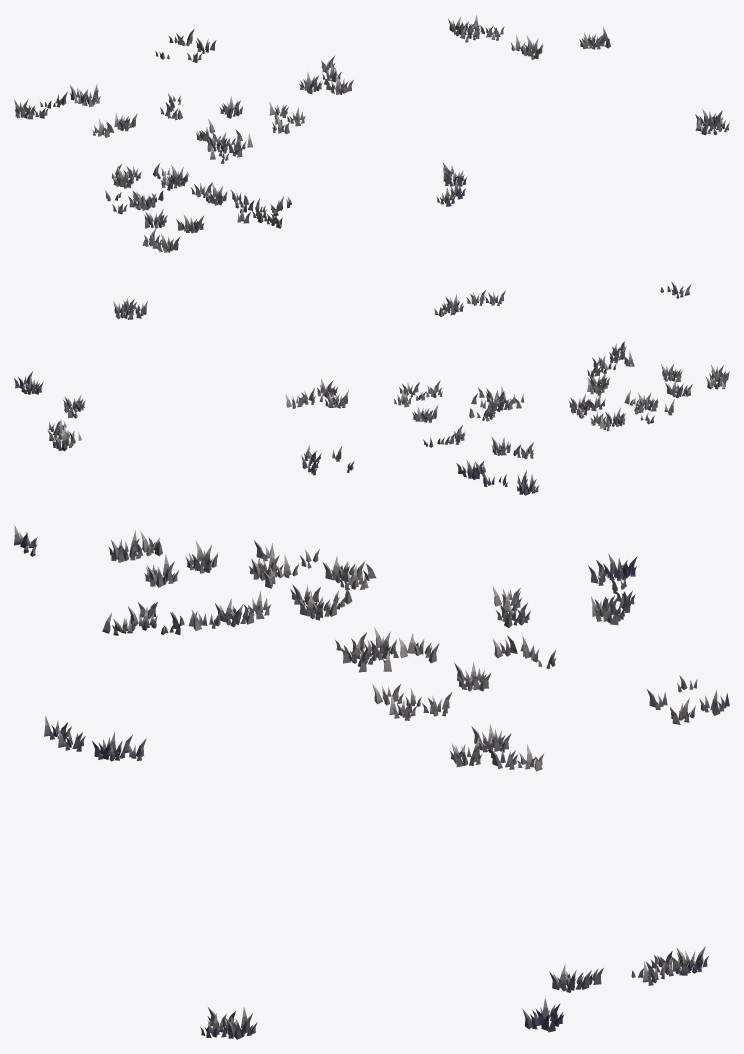
Rendered from Plant_01.FBX.
3 renders of one model, top to bottom at view 1: azimuth 30°, elevation 25°; view 2: azimuth 150°, elevation 25°; view 3: azimuth 270°, elevation 25°, orthographic. The views are drawn at different scales.
Parts seen in each view (by area): view 1: Plant_01; view 2: Plant_01; view 3: Plant_01.
Part boxes in pixels (x1,y1,x2,y2): Plant_01: [14, 15, 729, 252]; Plant_01: [14, 282, 729, 495]; Plant_01: [14, 524, 729, 1039].
Size of the model in its own units: 35.87 by 5.93 by 25.31.
